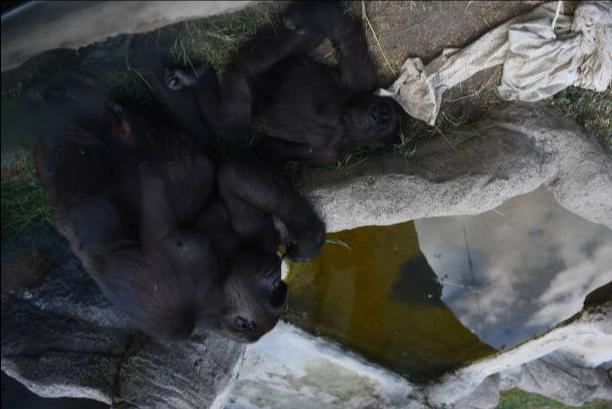gorille_Autres: (16, 108, 321, 343), (223, 15, 401, 170)
